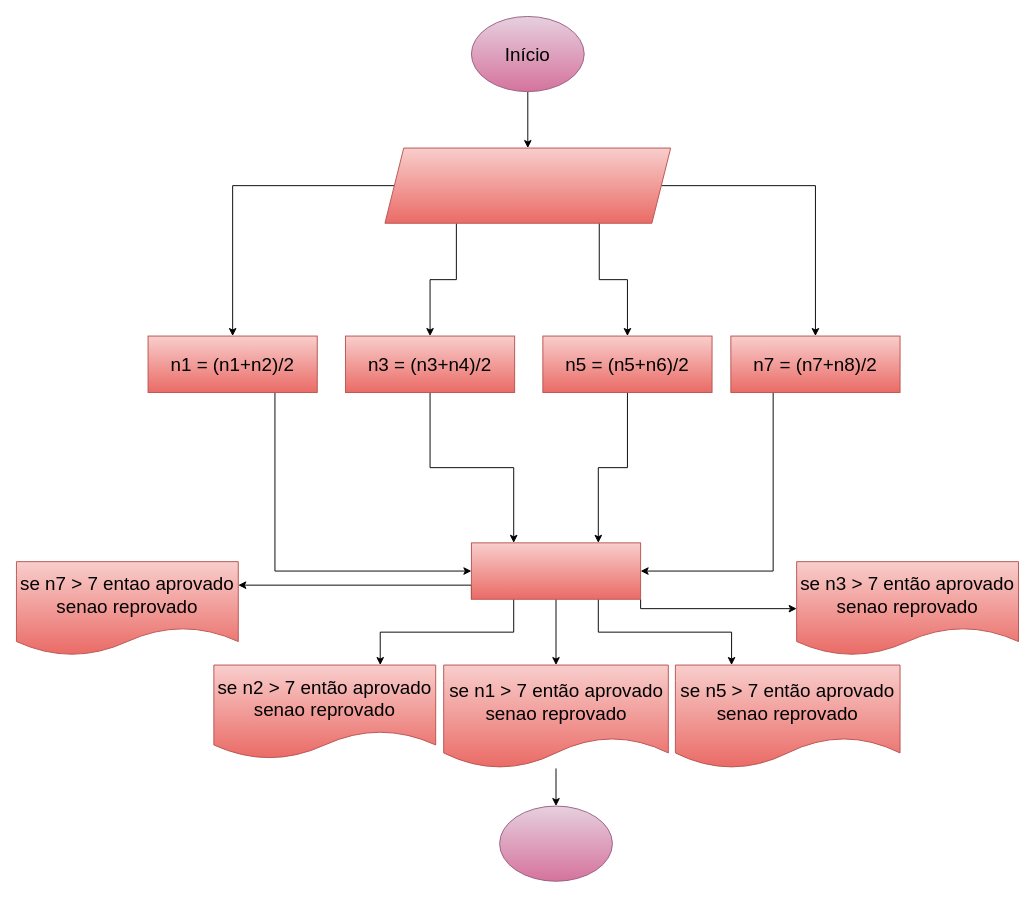
Some shapes in this 1035 by 898 pixel diagram are drawn without their labels. Each missing label, with the box of its shape:
Fim: (499, 805, 612, 881)
n1,n2,n3,n4,n5,n6,n7,n8,nome: (384, 147, 671, 223)
n2 = (n1+n3+n5+n7)/4: (470, 542, 641, 599)
